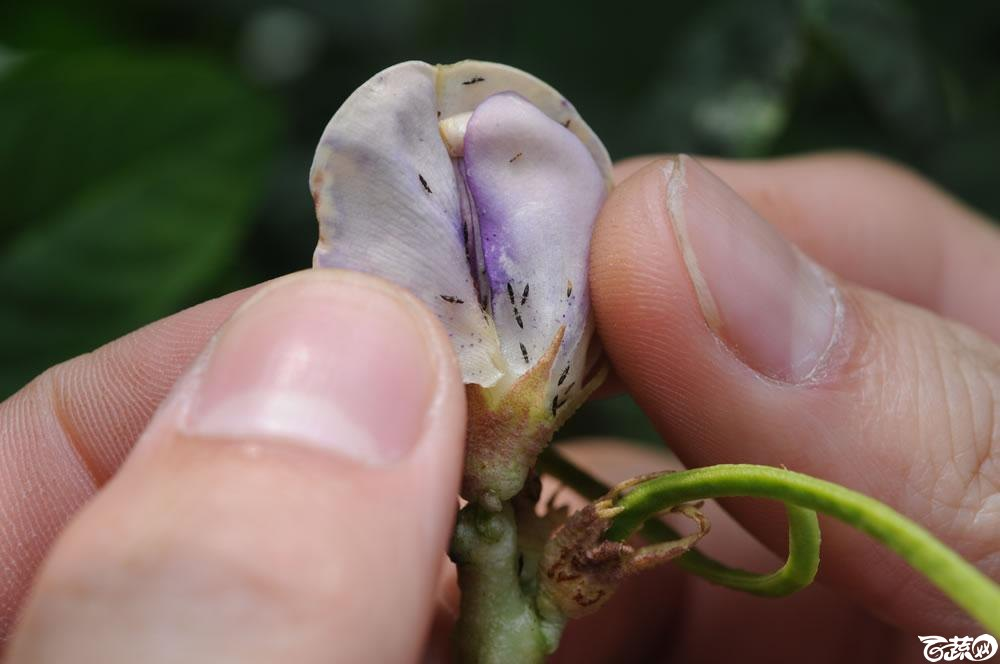thrips: (438, 291, 466, 308), (416, 171, 433, 194), (458, 73, 487, 86), (557, 362, 572, 386), (518, 342, 532, 366), (520, 282, 532, 309), (511, 309, 526, 329), (505, 282, 516, 305), (551, 393, 562, 415)
